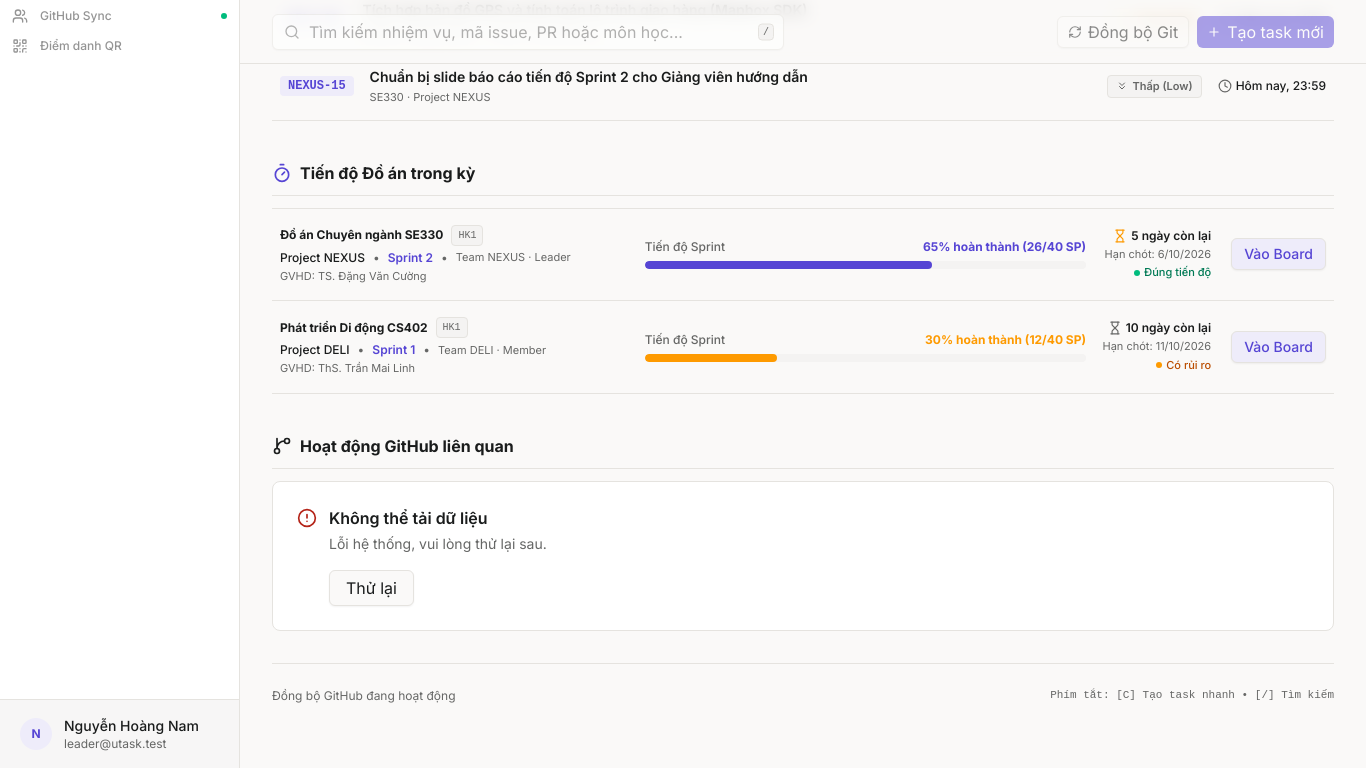
it: github section resilience › recovers github section after retry succeeds
(page scrolled)
Click the button "Thử lại" at [371, 588], box [329,570,414,606]
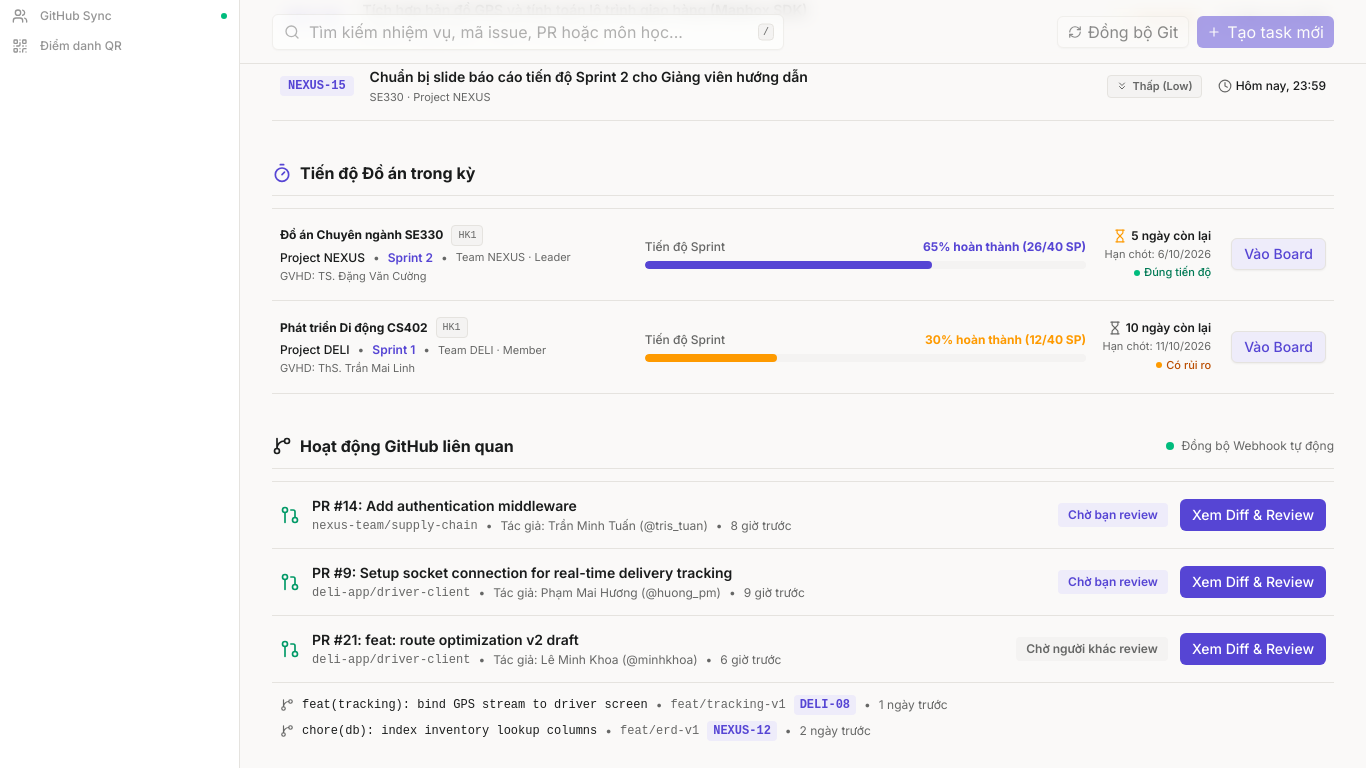
Expected: the text "Đồng bộ Webhook tự động" is shown, [1182,438,1334,454]
